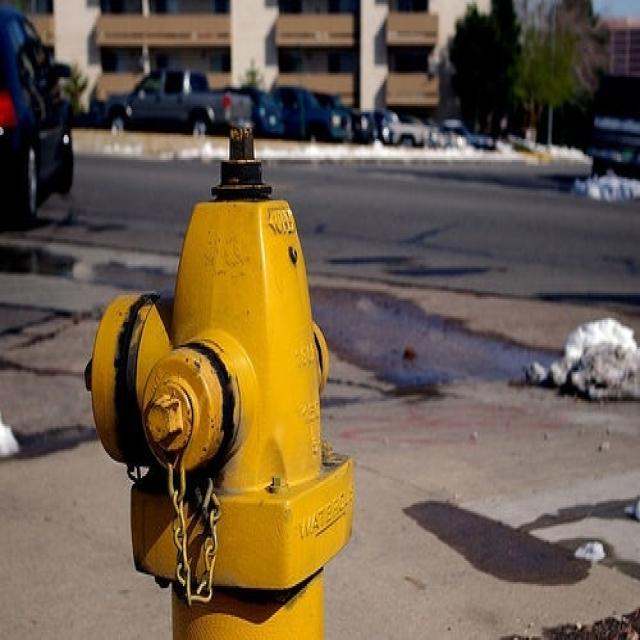fire_hydrant: (126, 132, 384, 629)
